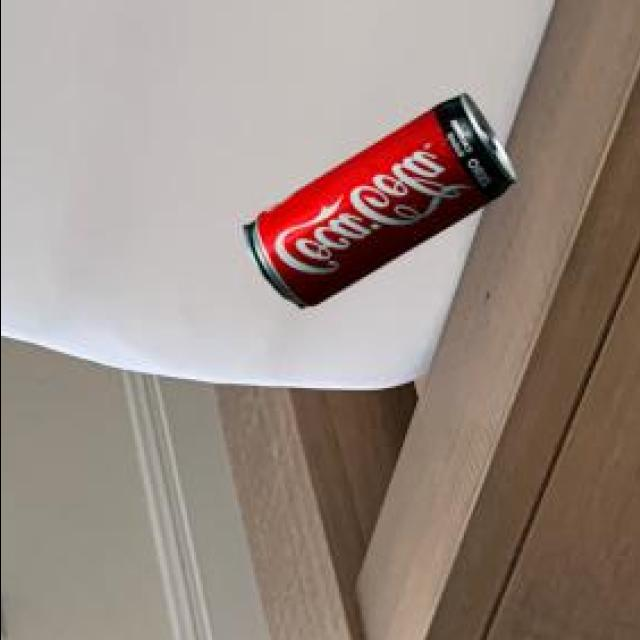logam: (239, 90, 512, 305)
